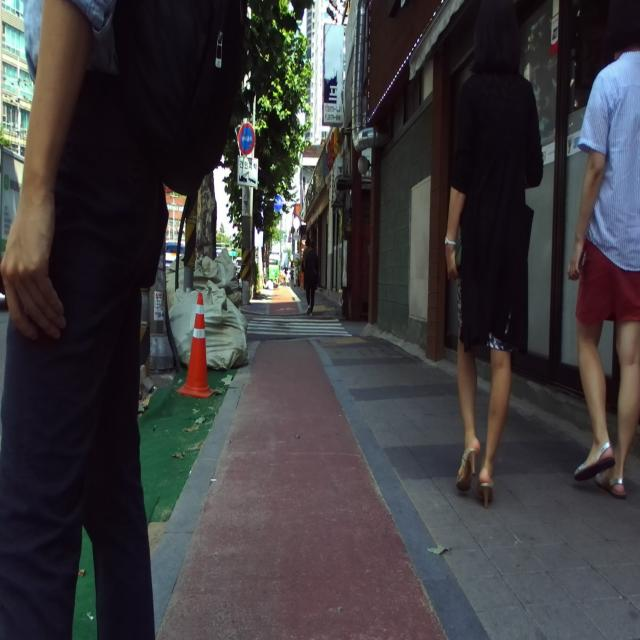횡단보도: (247, 318, 352, 337)
